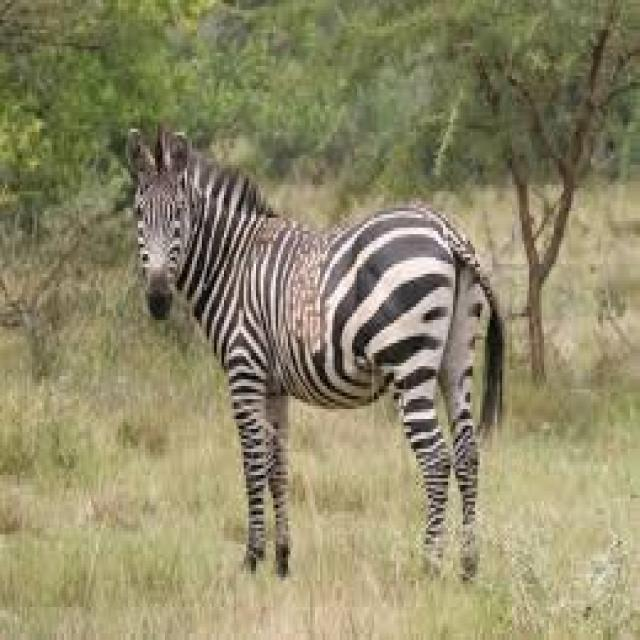Zebra: (124, 120, 492, 578)
